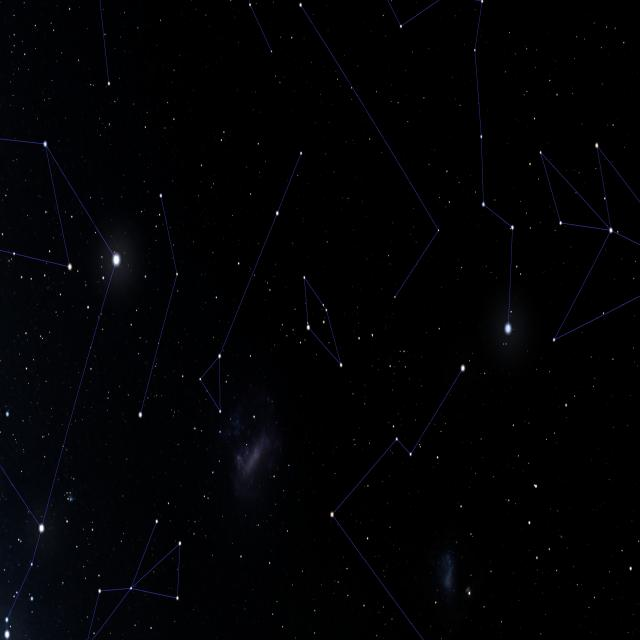Reticulum: (296, 266, 348, 374)
